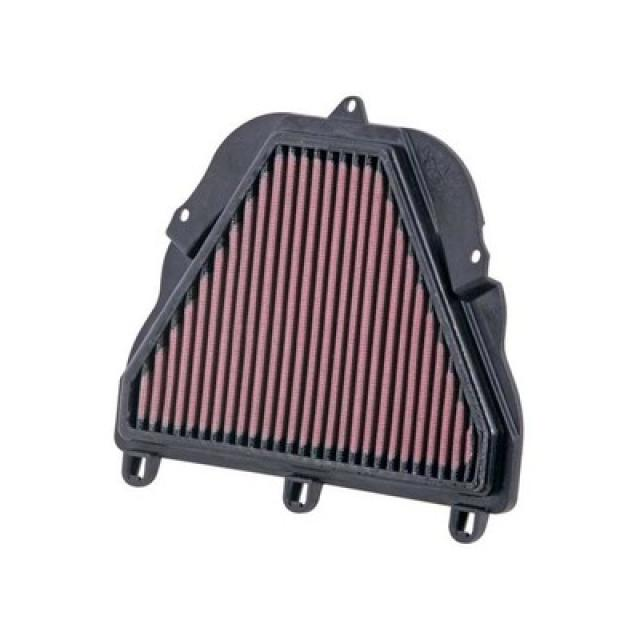air_filter: (116, 82, 534, 550)
